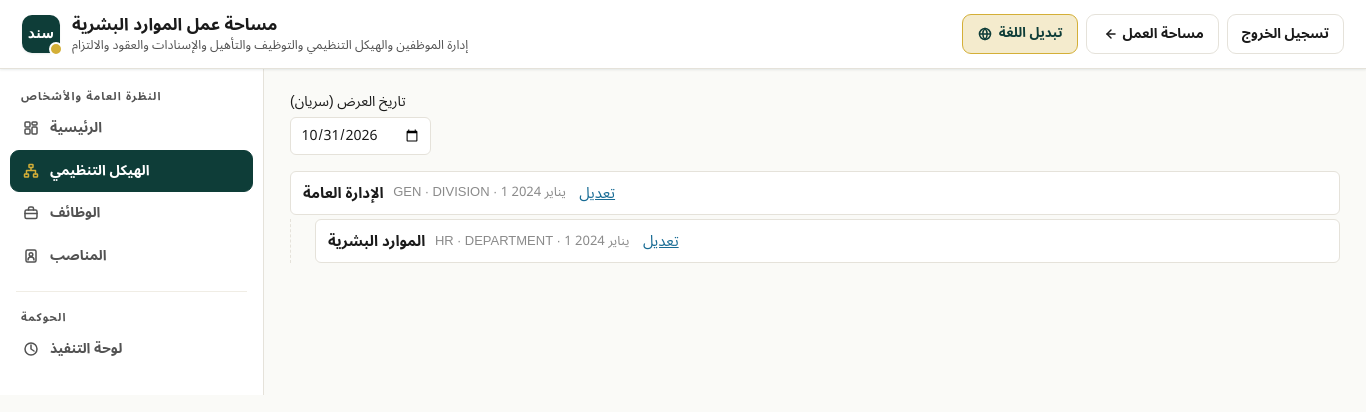
it: Org Structure workspace › shows future-dated units only when the asOf date covers them
Expected: the text "الإدارة العامة" is shown, [303,181,384,205]
// jsdom date inputs: set value via change with ISO text.
Type "2030-06-01" into the date field labelled "تاريخ العرض (سريان)" at (361, 136), box [290,117,431,155]
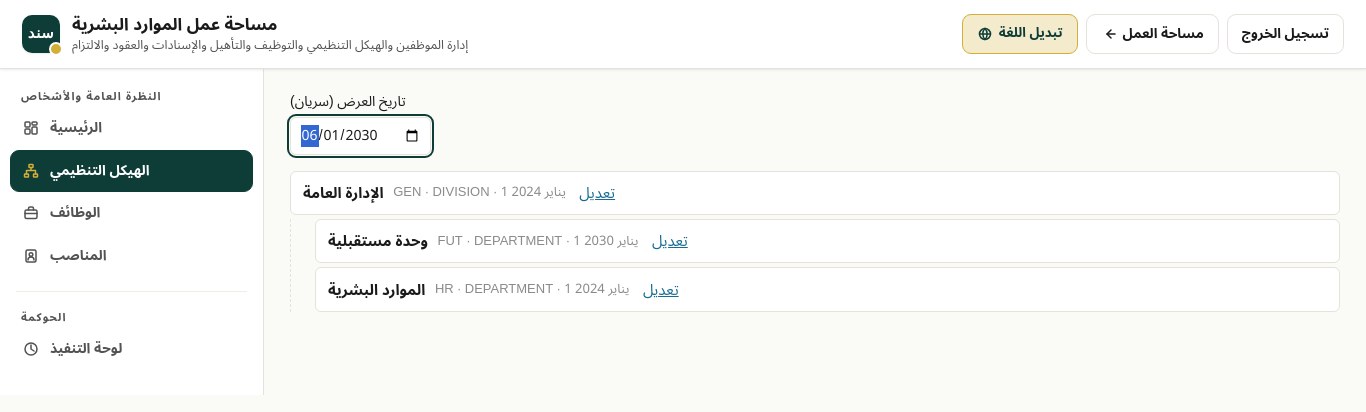
Result: the text "وحدة مستقبلية" is shown at [328,229,428,253]
